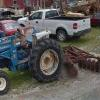Tractor: (2, 24, 65, 87)
